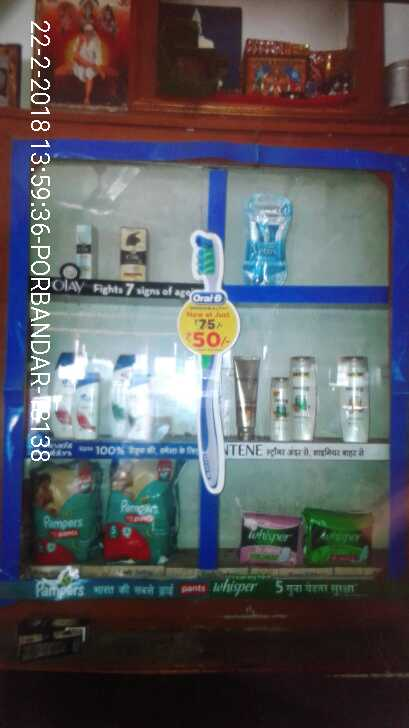venus: (249, 195, 292, 279)
